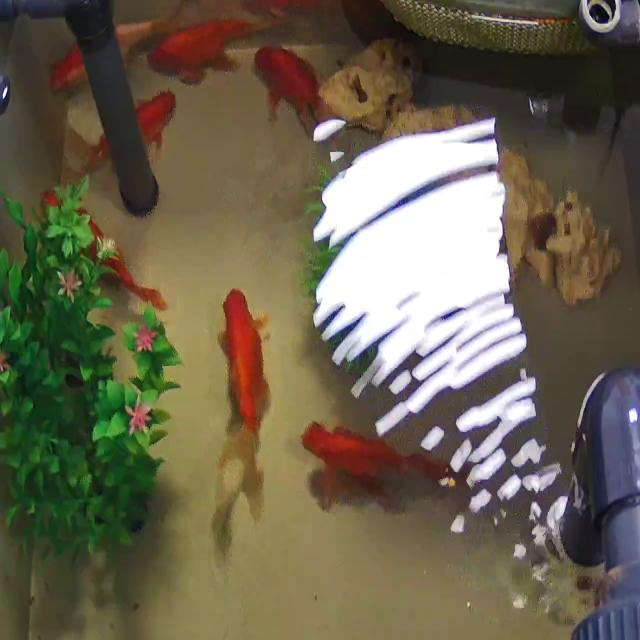fish: (299, 402, 437, 514), (219, 267, 278, 505), (38, 178, 141, 302), (85, 88, 191, 181), (43, 17, 149, 104), (254, 42, 340, 137), (149, 6, 258, 80), (242, 0, 376, 17)
